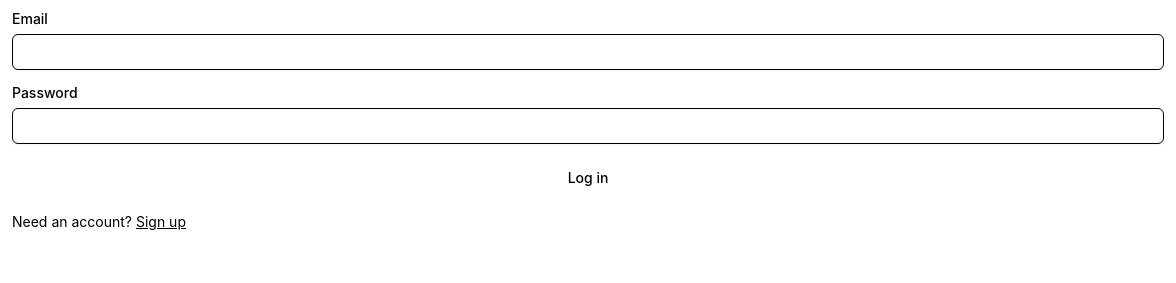
Test case: LoginForm › shows server error when mutation rejects
The image size is (1176, 283).
In the field labelled "Email": (588, 52) [12, 34, 1164, 70], type "a@b.com"
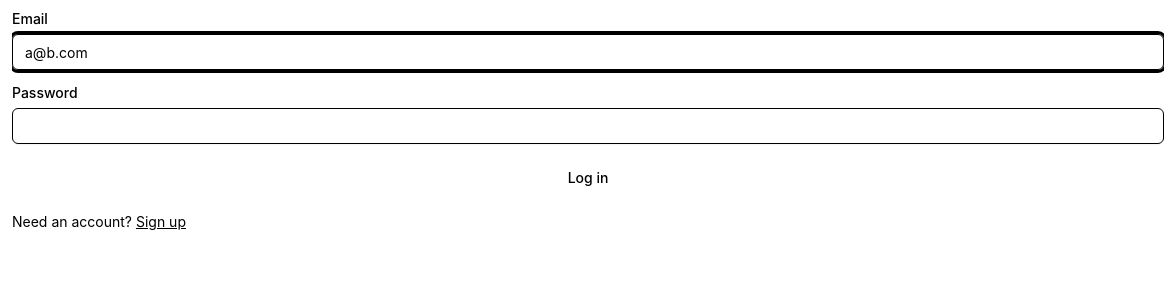
In the password field labelled "Password": (588, 126) [12, 108, 1164, 144], type "hunter2!!"
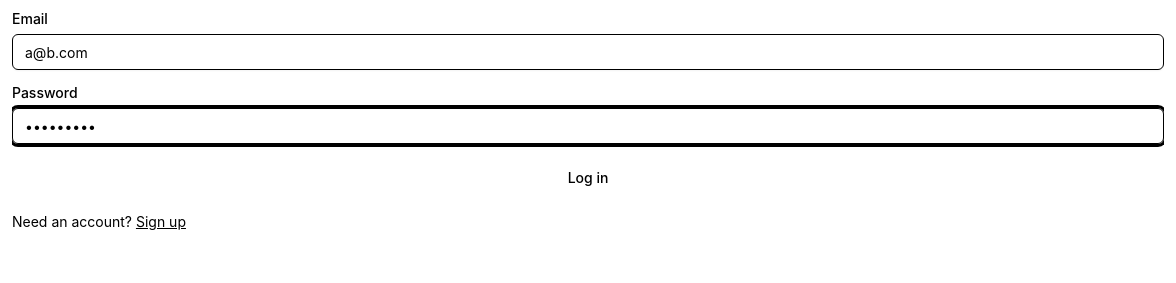
Click the button "Log in": (588, 178) [12, 160, 1164, 196]
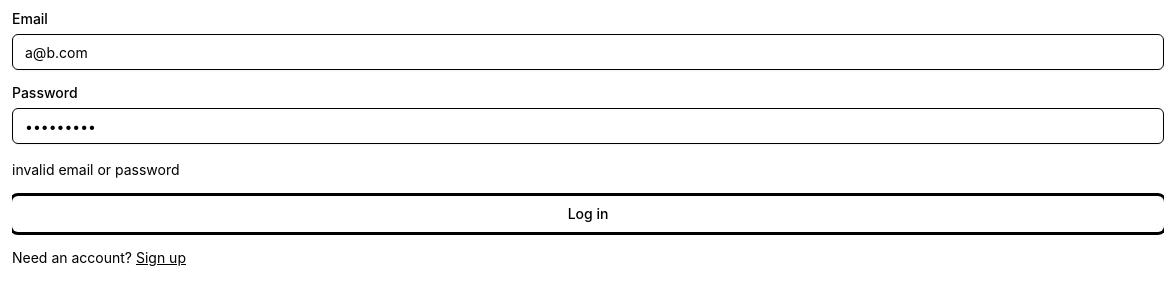
Expected: the text "invalid email or password" is shown, [12, 161, 180, 178]
